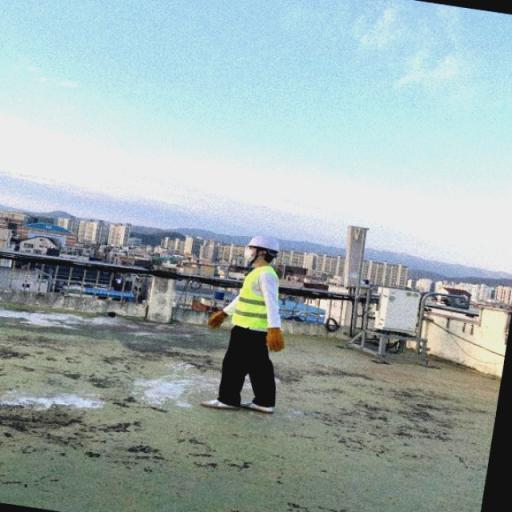Person: (200, 221, 308, 426)
gloves: (260, 324, 292, 354), (206, 308, 227, 332)
helmet: (244, 231, 284, 254)
vest: (235, 263, 285, 342)
